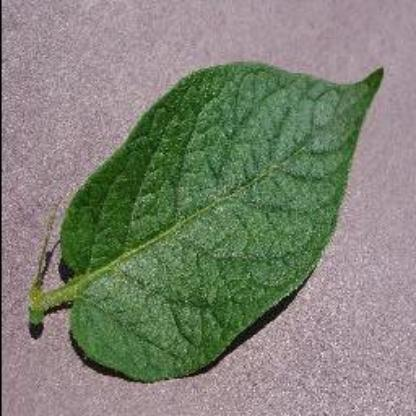Healthy-plant: (23, 54, 389, 382)
